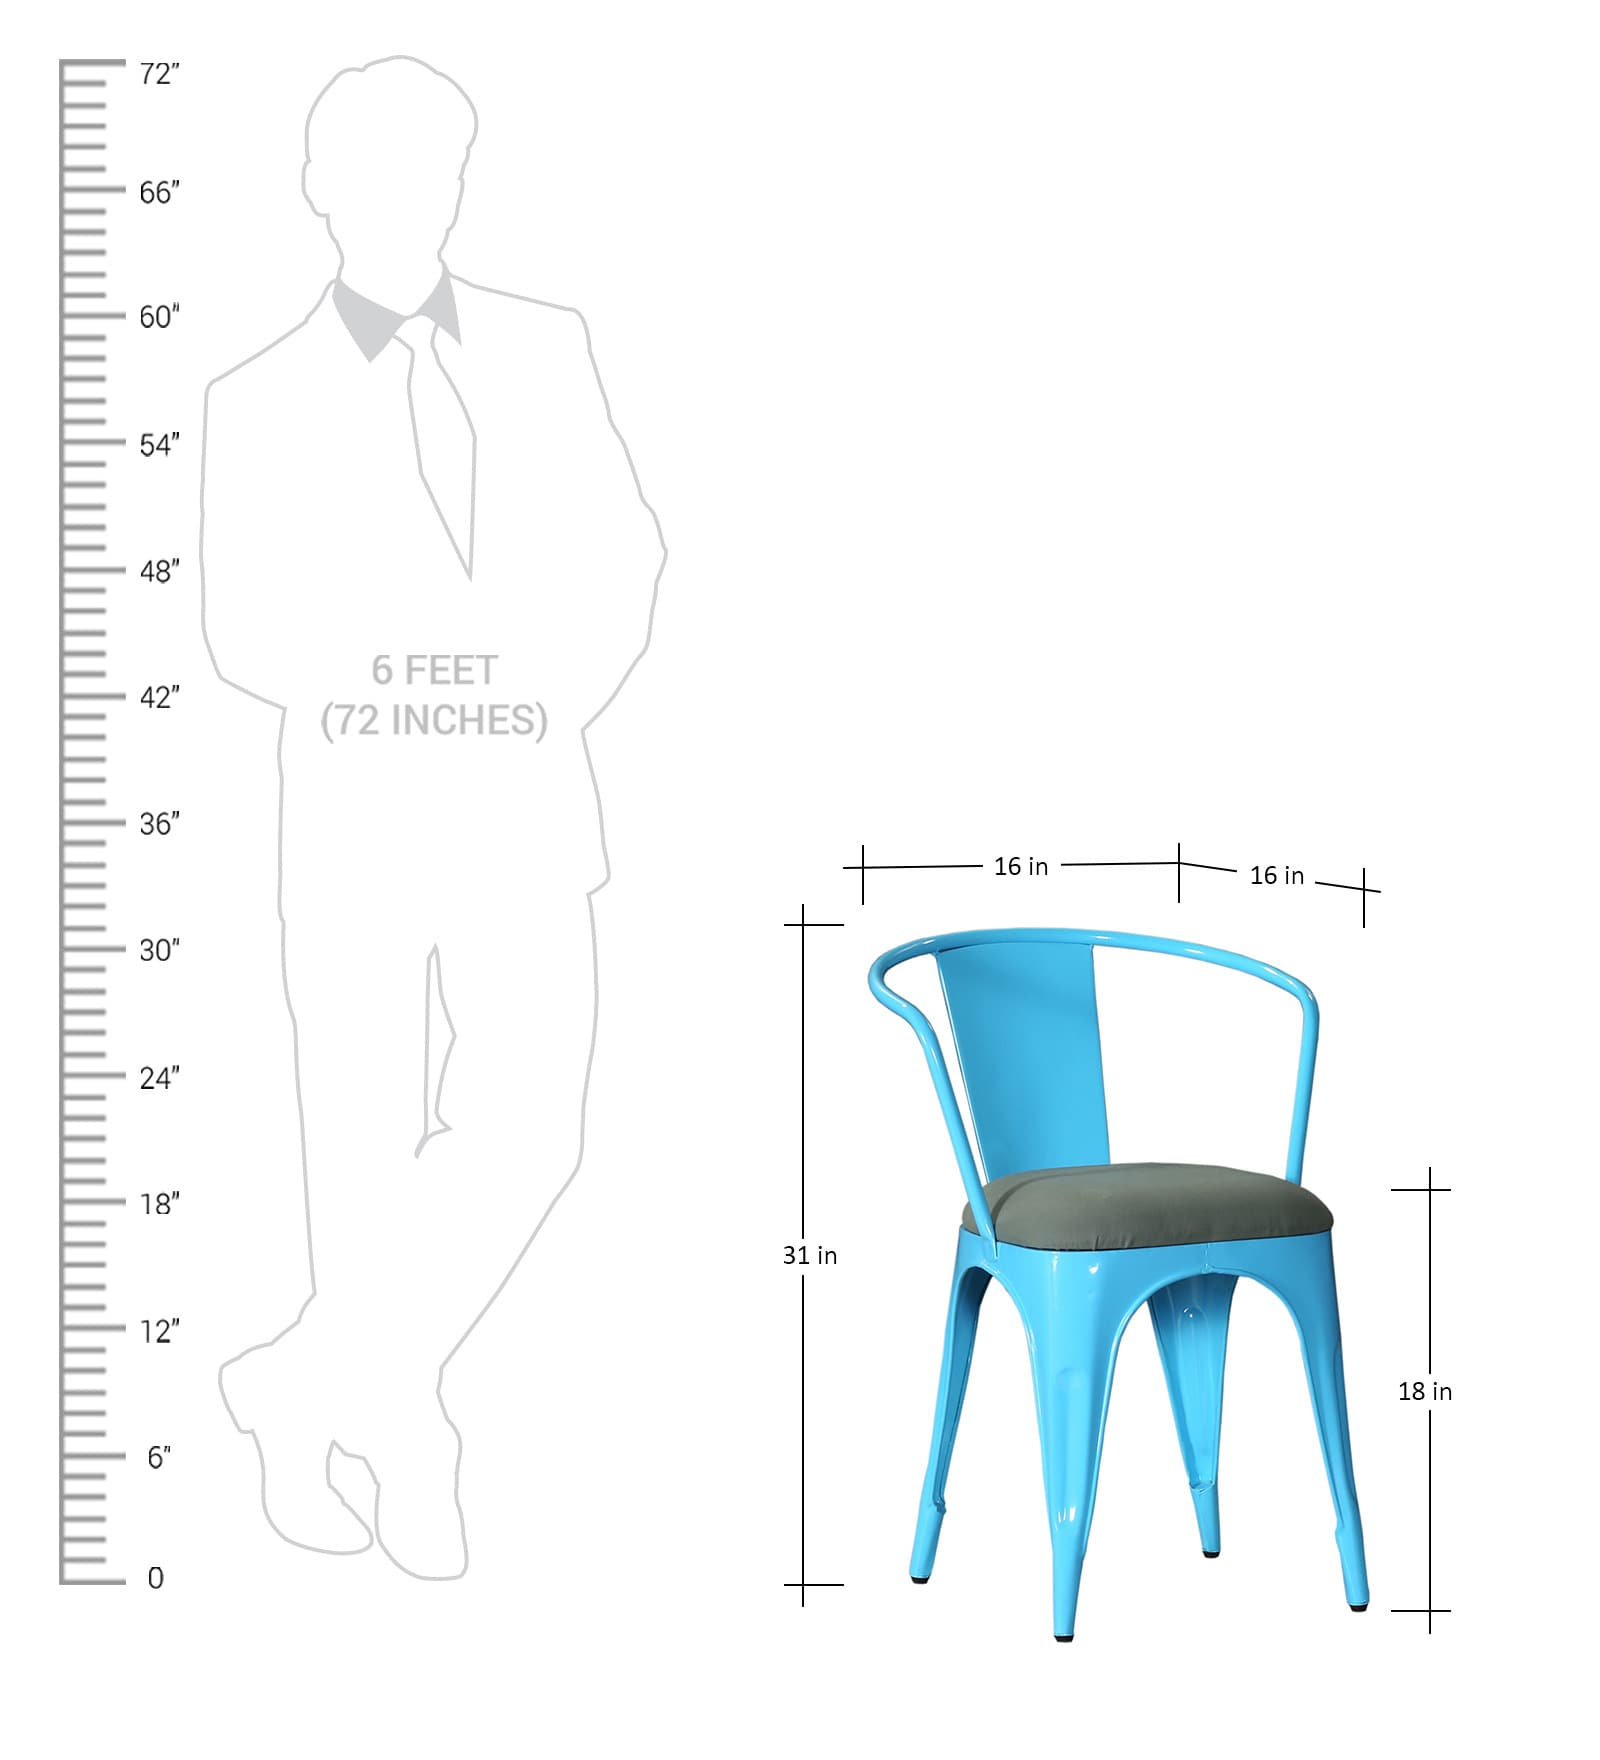Danlou Metal Chair with Cushion in Blue Colour by Bohemiana: (849, 908, 1392, 1643)
